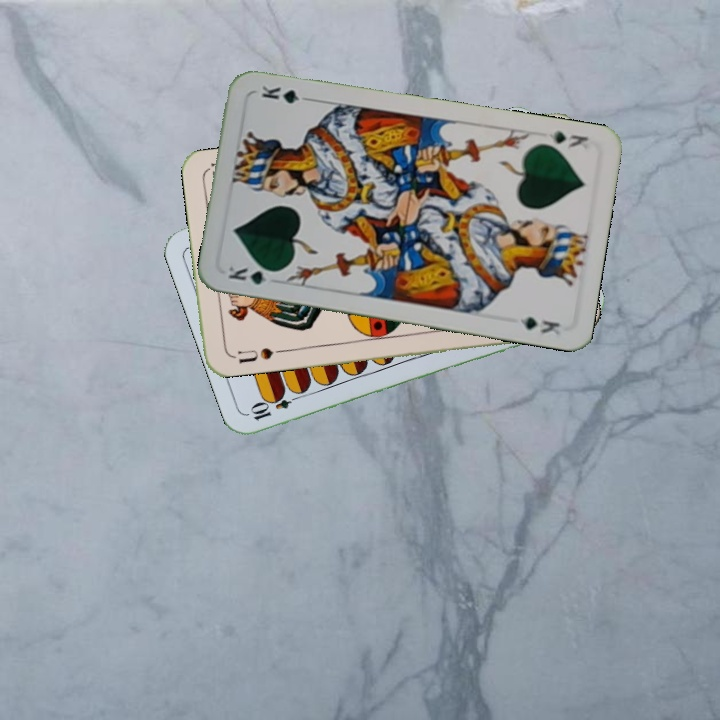E10: (247, 389, 304, 423)
GK: (224, 262, 282, 288), (545, 127, 590, 151)
SU: (227, 344, 286, 366)
